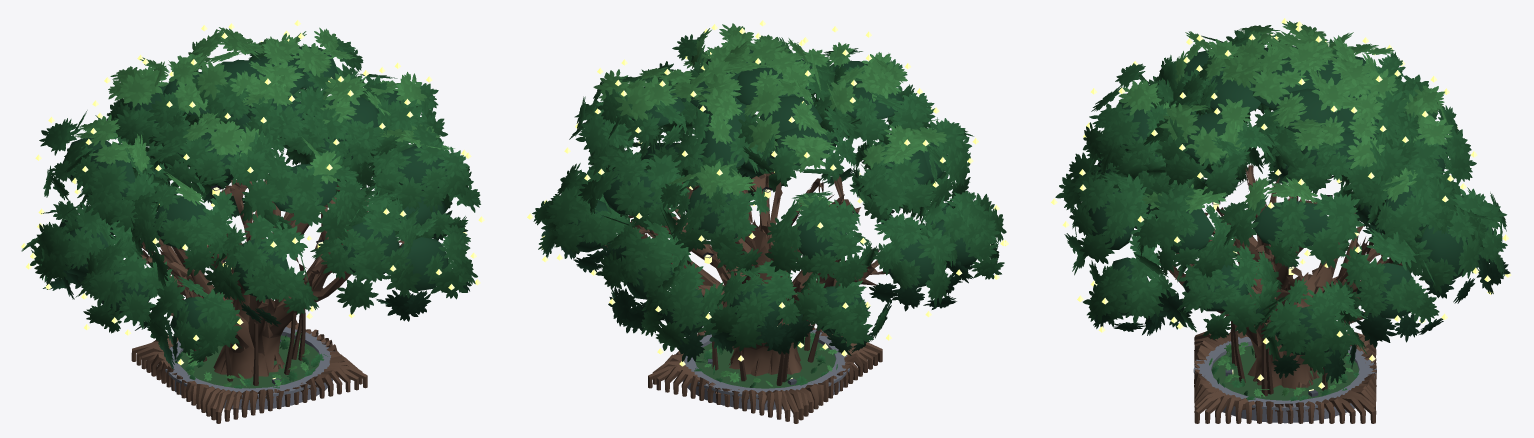
File: tree_banyan.glb
The picture shows the model from 3 angles, left to right: view 1: azimuth 30°, elevation 25°; view 2: azimuth 150°, elevation 25°; view 3: azimuth 270°, elevation 25°; orthographic projection. The views are drawn at different scales.
Visible parts, largest first — view 1: canopy, body, lights; view 2: canopy, body, lights; view 3: canopy, body, lights.
Boxes of the visible parts, x1=… form: canopy: x1=21, y1=27, x2=480, y2=369; body: x1=131, y1=180, x2=404, y2=423; lights: x1=21, y1=20, x2=484, y2=384; canopy: x1=532, y1=23, x2=1006, y2=362; body: x1=601, y1=172, x2=888, y2=423; lights: x1=527, y1=20, x2=1008, y2=385; canopy: x1=1055, y1=21, x2=1510, y2=383; body: x1=1159, y1=165, x2=1402, y2=423; lights: x1=1051, y1=18, x2=1511, y2=396.
Bounding box in the file's own units: 14.15 × 10.69 × 13.12.
Materials: 5 (1 with a texture image).
